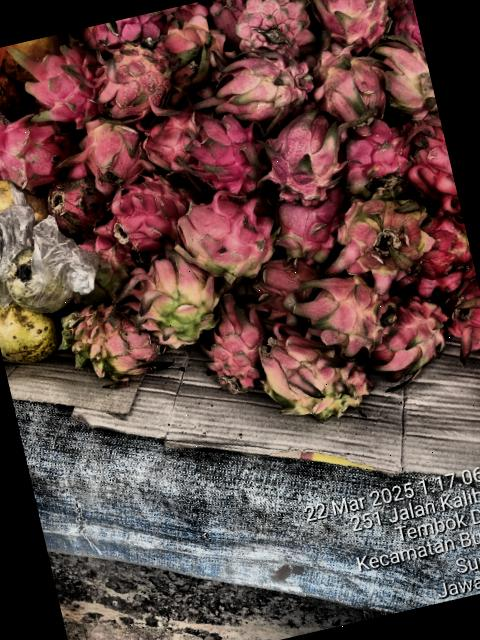buah-naga-belum-matang: (244, 316, 372, 438), (46, 286, 174, 404), (281, 260, 409, 364), (330, 187, 436, 299), (121, 242, 229, 350), (167, 190, 280, 292), (256, 96, 358, 208), (202, 42, 312, 130), (358, 290, 452, 385), (299, 28, 387, 126), (356, 26, 437, 124), (86, 39, 179, 123), (232, 0, 322, 64), (305, 0, 396, 52)
buah-naga-matang: (174, 102, 265, 202), (99, 165, 195, 252), (15, 39, 102, 132), (264, 178, 355, 266), (199, 295, 270, 397), (401, 200, 477, 295), (38, 165, 122, 243), (333, 115, 412, 197), (0, 105, 73, 193), (402, 108, 460, 215), (158, 13, 237, 90), (68, 118, 150, 190), (240, 246, 318, 314), (78, 10, 168, 58), (434, 279, 480, 368), (136, 114, 194, 162)
